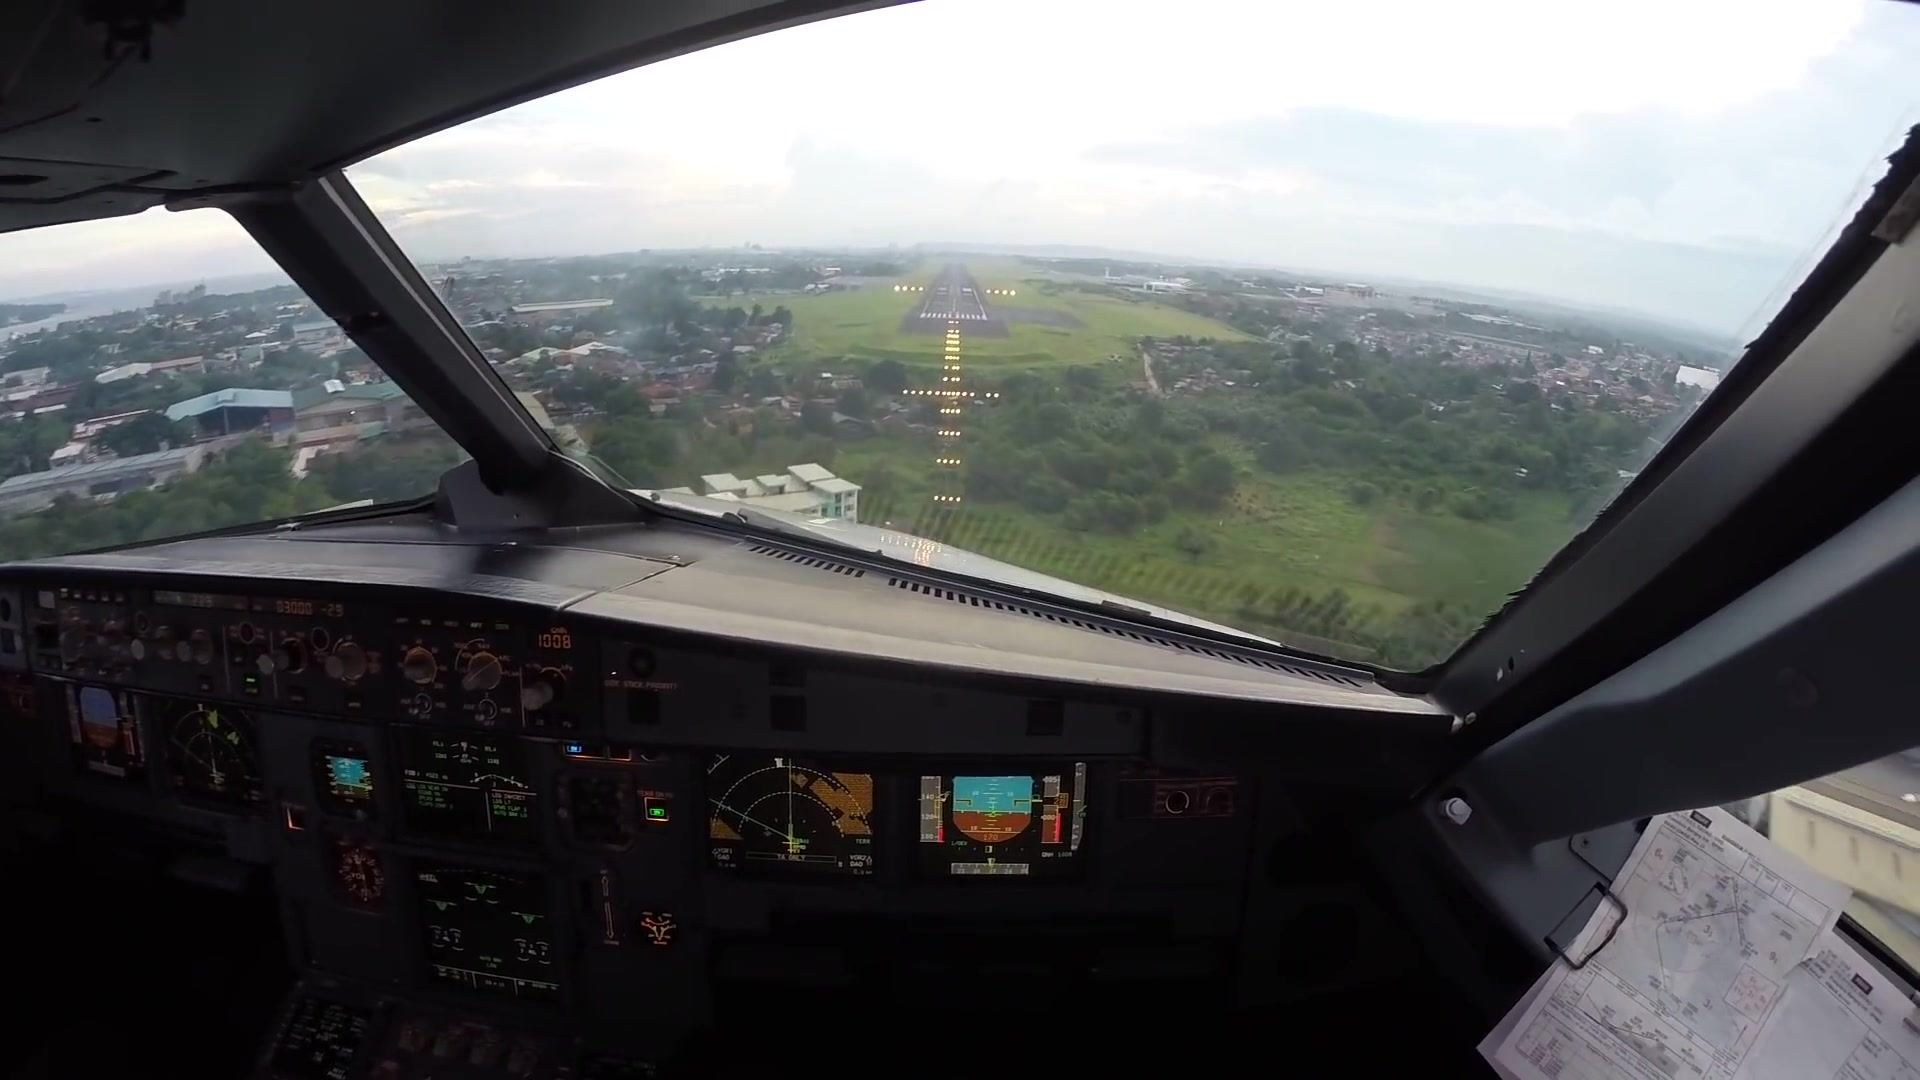entrance: (922, 311, 992, 322)
runway: (906, 265, 1007, 338)
